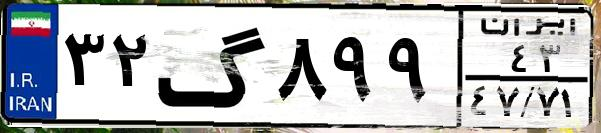1: (560, 70, 590, 125)
2: (110, 28, 156, 98)
3: (57, 26, 110, 100), (537, 27, 568, 80)
4: (508, 27, 537, 80), (470, 70, 495, 125)
7: (495, 70, 520, 125), (535, 70, 560, 125)
8: (270, 28, 330, 110)
9: (385, 28, 445, 110), (330, 28, 385, 110)
گ: (156, 12, 270, 120)
